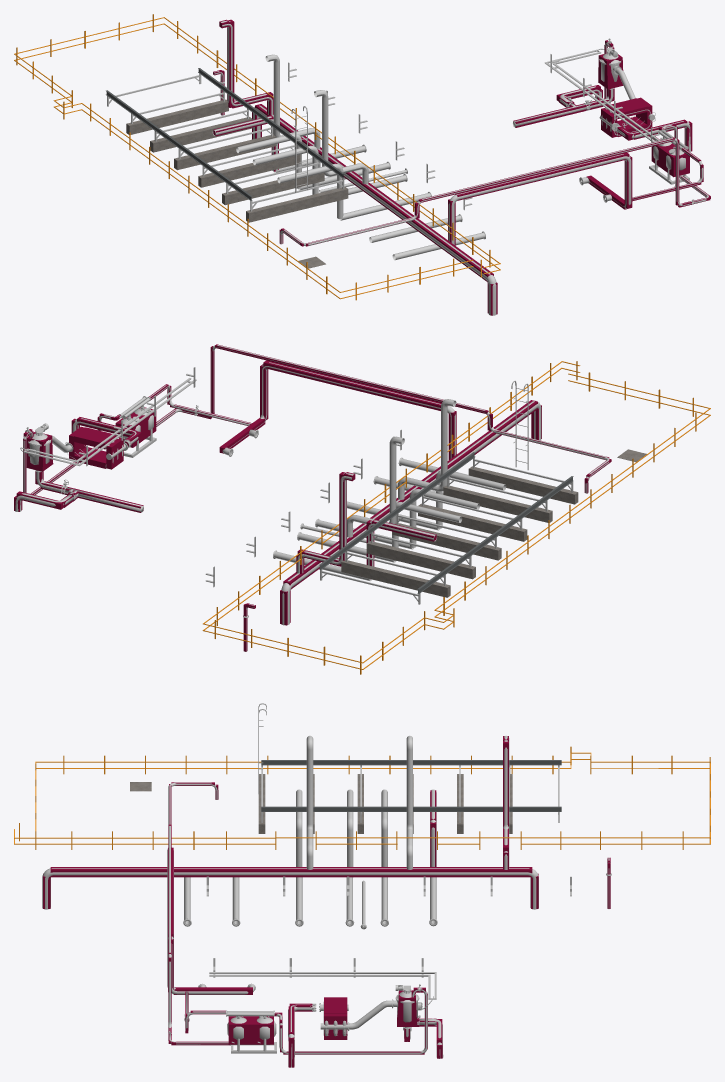
The model's file is middle.DAE.
3 renders of one model, top to bottom at view 1: azimuth 30°, elevation 25°; view 2: azimuth 150°, elevation 25°; view 3: azimuth 270°, elevation 25°, orthographic. The views are drawn at different scales.
Visible parts, largest first — view 1: W095, W098-ch003, W096_Pipes, W100_Pipes, W098_Pipes, W025_, W045-ins2_, W045-ins3_, W045_, W045-ins1_, W045-ins4_, W096-ch002 (+20 smaller); view 2: W095, W098-ch003, W025_, W096_Pipes, W098_Pipes, W100-ch001, W045-ins3_, W045-ins5_, W045-ins1_, W045-ins2_, W100_Pipes, W045_ (+16 smaller); view 3: W098-ch003, W098_Pipes, W095, W025_, W018_, W018-ins1, W022_, W081-ins2, W096_Pipes, W081-ins1, W025-ch005, W073_Fence (+2 smaller).
Boxes of the visible parts, box(x1,y1,x2,y2) form: W095: box(513, 42, 708, 203); W098-ch003: box(255, 104, 493, 281); W096_Pipes: box(280, 138, 692, 245); W100_Pipes: box(448, 154, 631, 244); W098_Pipes: box(253, 105, 496, 315); W025_: box(595, 47, 689, 184); W045-ins2_: box(246, 187, 348, 222); W045-ins3_: box(126, 99, 228, 134); W045_: box(198, 154, 300, 187); W045-ins1_: box(222, 173, 324, 205); W045-ins4_: box(174, 134, 276, 170); W096-ch002: box(418, 137, 674, 202); W095: box(15, 385, 251, 512); W098-ch003: box(283, 400, 537, 589); W025_: box(20, 396, 156, 472); W096_Pipes: box(198, 345, 609, 493); W098_Pipes: box(281, 400, 541, 625); W100-ch001: box(263, 360, 441, 410); W045-ins3_: box(341, 560, 450, 597); W045-ins5_: box(366, 541, 475, 579); W045-ins1_: box(443, 485, 552, 522); W045-ins2_: box(468, 466, 578, 504); W100_Pipes: box(222, 362, 455, 458); W045_: box(418, 503, 527, 541); W098-ch003: box(50, 867, 532, 877); W098_Pipes: box(42, 868, 538, 909); W095: box(168, 988, 443, 1067); W025_: box(226, 985, 433, 1053); W018_: box(261, 760, 561, 765); W018-ins1: box(261, 806, 561, 811); W022_: box(209, 972, 436, 999); W081-ins2: box(306, 735, 313, 869); W096_Pipes: box(168, 782, 218, 1032); W081-ins1: box(406, 735, 412, 869); W025-ch005: box(228, 1016, 273, 1044); W073_Fence: box(276, 837, 710, 838).
Size of what is drawn, in the model's own units: 274 by 324 by 81.13.
